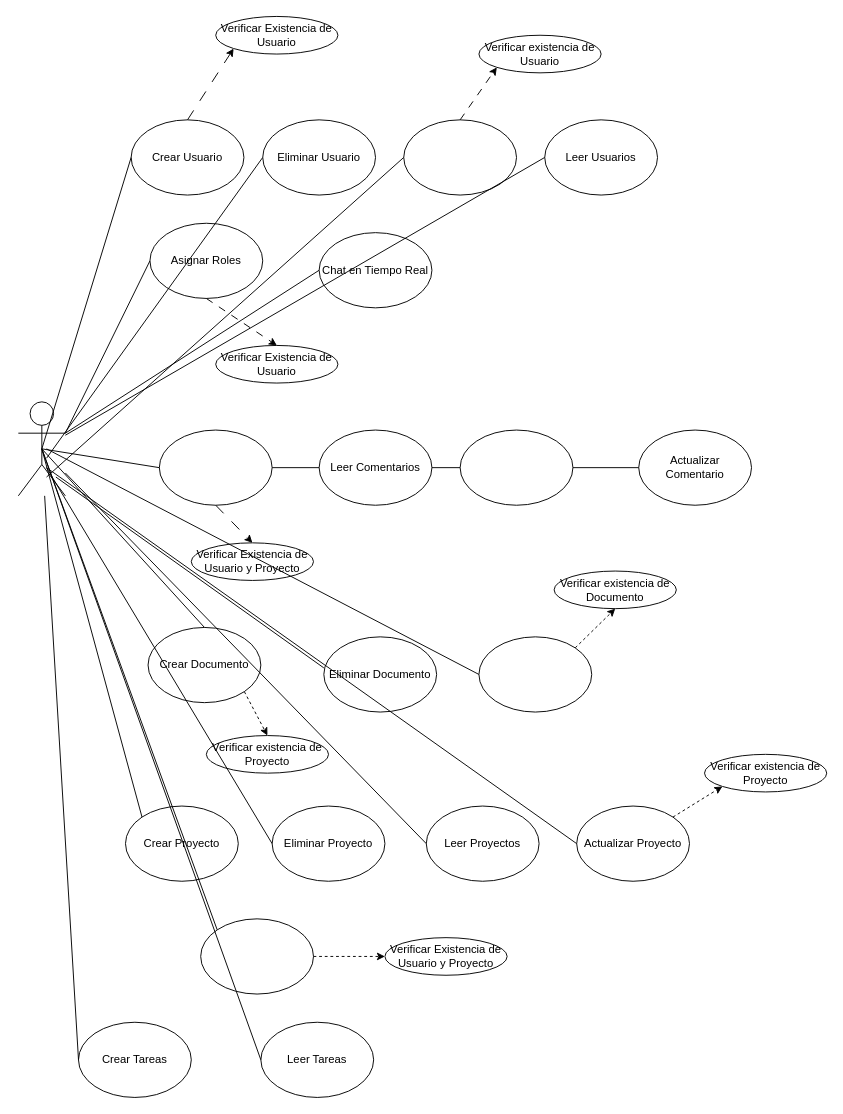
Some shapes in this 843 by 1114 pixel diagram are drawn without their labels. The centre of each missing label's shape, as x and y in pixels:
"Actualizar Documento" belongs at [535,674].
"Actualizar Usuario" belongs at [460,157].
"Crear Comentario" belongs at [215,467].
"Eliminar Comentario" belongs at [516,467].
"Suscribirse a Proyectos" belongs at [256,956].
"USUARIO" belongs at [41,448].
